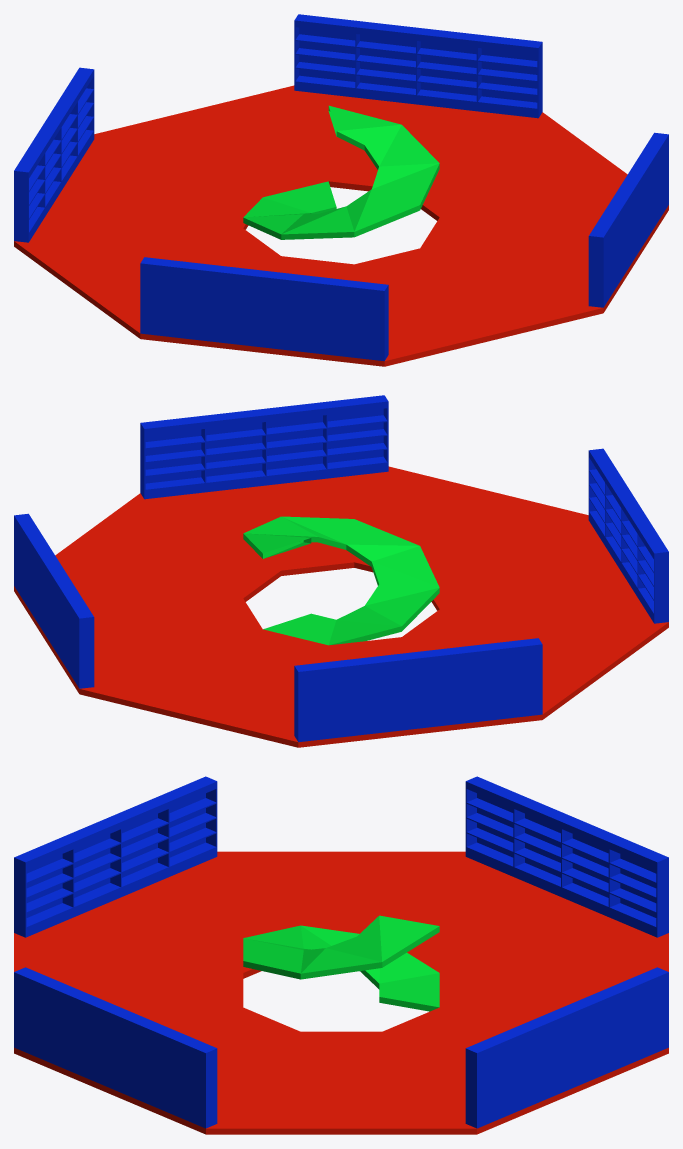
Rendered from library_room.glb.
3 renders of one model, top to bottom at view 1: azimuth 30°, elevation 25°; view 2: azimuth 150°, elevation 25°; view 3: azimuth 270°, elevation 25°, orthographic. The views are drawn at different scales.
Parts seen in each view (by area): view 1: Floor-col, Shelf.001-col, Shelf.003-col, Stairs-col, Shelf.002-col, Shelf.004-col; view 2: Floor-col, Shelf.002-col, Shelf.004-col, Stairs-col, Shelf.001-col, Shelf.003-col; view 3: Floor-col, Shelf.003-col, Shelf.004-col, Shelf.001-col, Shelf.002-col, Stairs-col.
Boxes of the visible parts, <box> form: Floor-col: <box>14,85,668,366</box>; Shelf.001-col: <box>294,14,542,118</box>; Shelf.003-col: <box>140,257,388,361</box>; Stairs-col: <box>243,105,439,239</box>; Shelf.002-col: <box>588,132,668,307</box>; Shelf.004-col: <box>14,67,94,242</box>; Floor-col: <box>14,466,668,747</box>; Shelf.002-col: <box>140,395,388,499</box>; Shelf.004-col: <box>294,638,542,742</box>; Stairs-col: <box>243,516,439,645</box>; Shelf.001-col: <box>14,513,94,688</box>; Shelf.003-col: <box>588,448,668,623</box>; Floor-col: <box>14,851,668,1134</box>; Shelf.003-col: <box>14,776,217,937</box>; Shelf.004-col: <box>465,776,668,937</box>; Shelf.001-col: <box>465,967,668,1128</box>; Shelf.002-col: <box>14,967,217,1128</box>; Stairs-col: <box>243,915,439,1011</box>.
Bounding box in the file's own units: 20 × 2.94 × 20.
